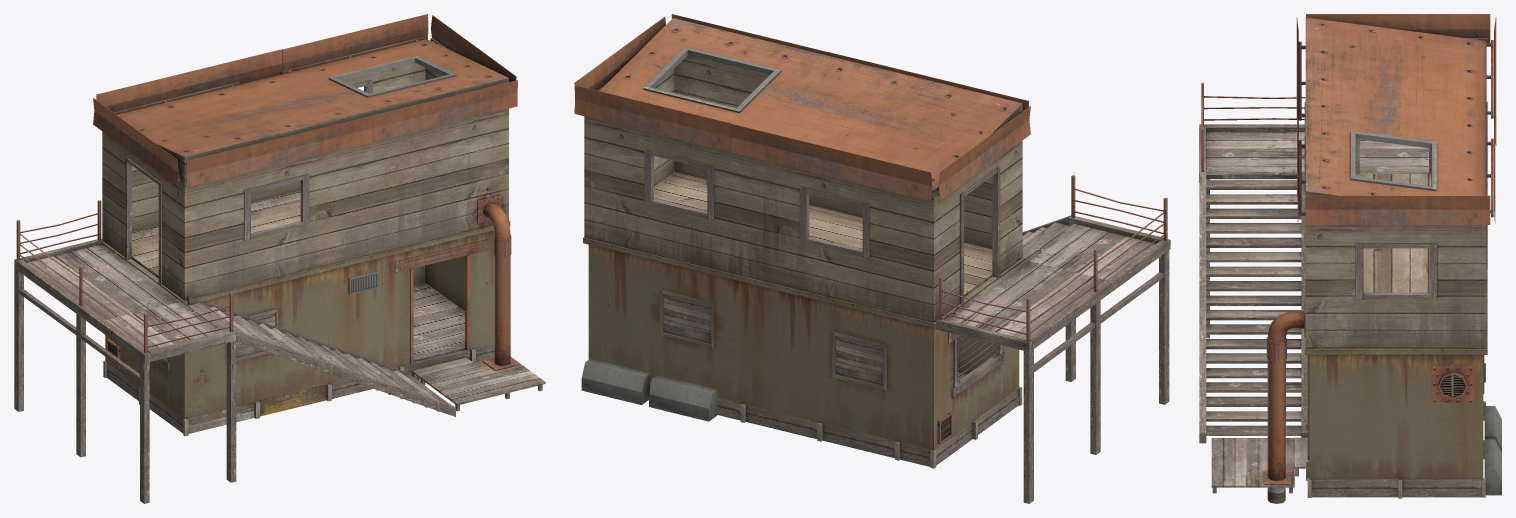
Rendered from cabin.glb.
3 views of the same model, side by side, from view 1: azimuth 30°, elevation 25°; view 2: azimuth 150°, elevation 25°; view 3: azimuth 270°, elevation 25° (orthographic). The views are drawn at different scales.
Parts seen in each view (by area): view 1: 2ND Building, 1ST Building, 3 Sets; view 2: 2ND Building, 1ST Building, 3 Sets; view 3: 2ND Building, 3 Sets, 1ST Building.
Part boxes in pixels (<box>): 2ND Building: <box>93,14,517,300</box>; 1ST Building: <box>103,221,510,436</box>; 3 Sets: <box>14,195,545,503</box>; 2ND Building: <box>574,14,1030,322</box>; 1ST Building: <box>583,237,1024,468</box>; 3 Sets: <box>581,175,1170,503</box>; 2ND Building: <box>1296,14,1496,348</box>; 3 Sets: <box>1199,82,1501,503</box>; 1ST Building: <box>1294,192,1487,498</box>.
Size of the model in its own units: 18.39 by 12.16 by 10.44.
Materials: 3 (3 with a texture image).
